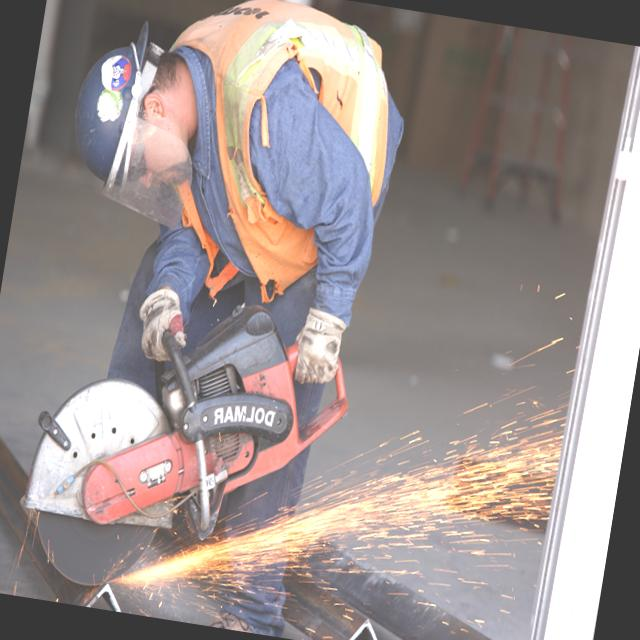goggles: (122, 120, 156, 218)
helmet: (59, 8, 172, 197)
vest: (130, 0, 412, 324)
